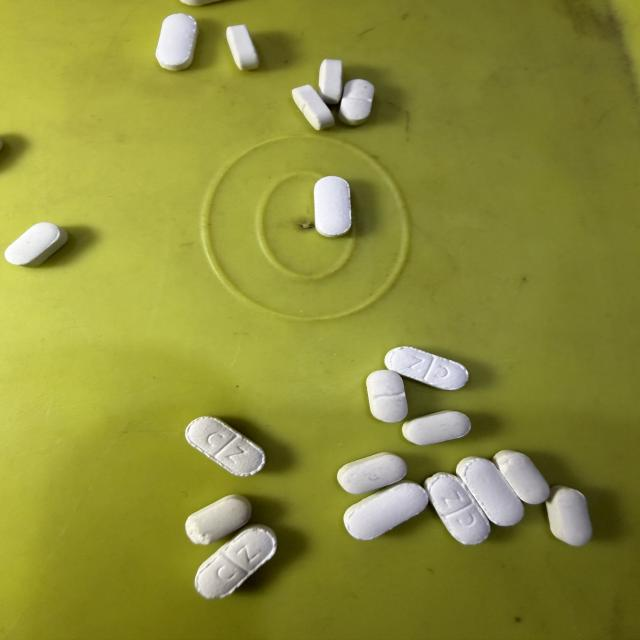pill: (195, 526, 276, 598), (344, 481, 428, 539), (186, 417, 265, 476), (457, 457, 524, 526), (425, 473, 490, 544), (385, 347, 468, 390), (186, 495, 251, 544), (493, 450, 549, 504), (338, 453, 407, 494), (547, 486, 592, 546), (5, 223, 67, 266), (156, 14, 197, 70), (403, 411, 470, 445), (314, 176, 351, 237), (367, 370, 407, 422), (292, 85, 334, 130), (339, 80, 374, 125), (227, 25, 259, 69), (318, 59, 343, 104), (181, 0, 218, 5)
